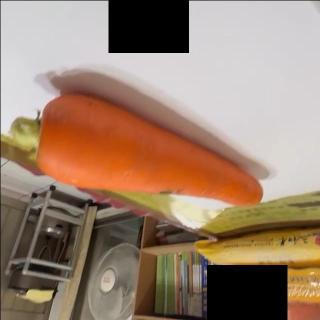carrot: (10, 90, 264, 208)
